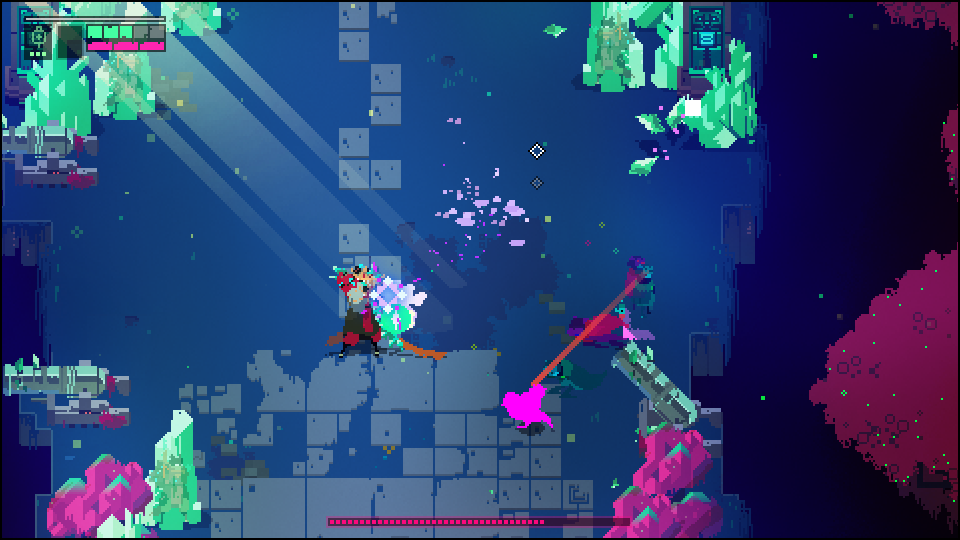hanged_man: (326, 264, 414, 359)
player: (495, 381, 552, 433)
